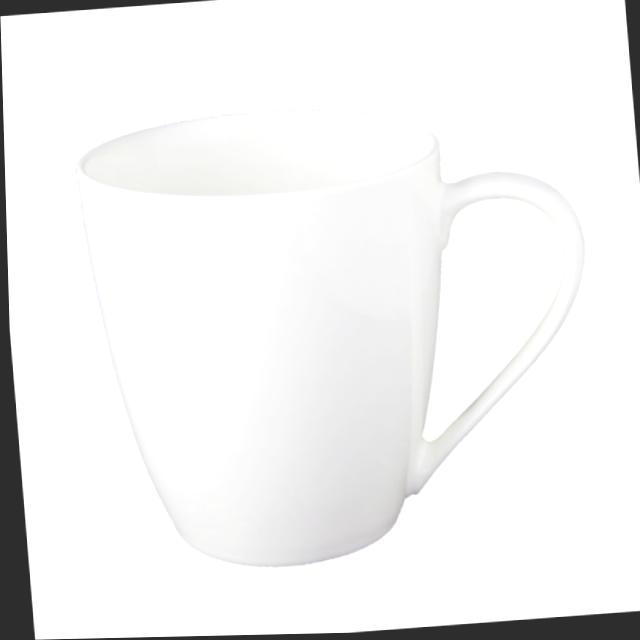cup: (60, 87, 612, 603)
